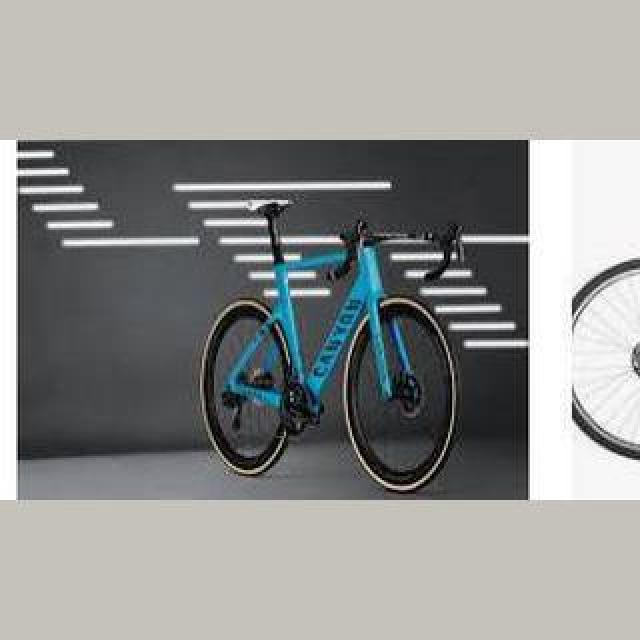Person: (200, 204, 462, 488)
